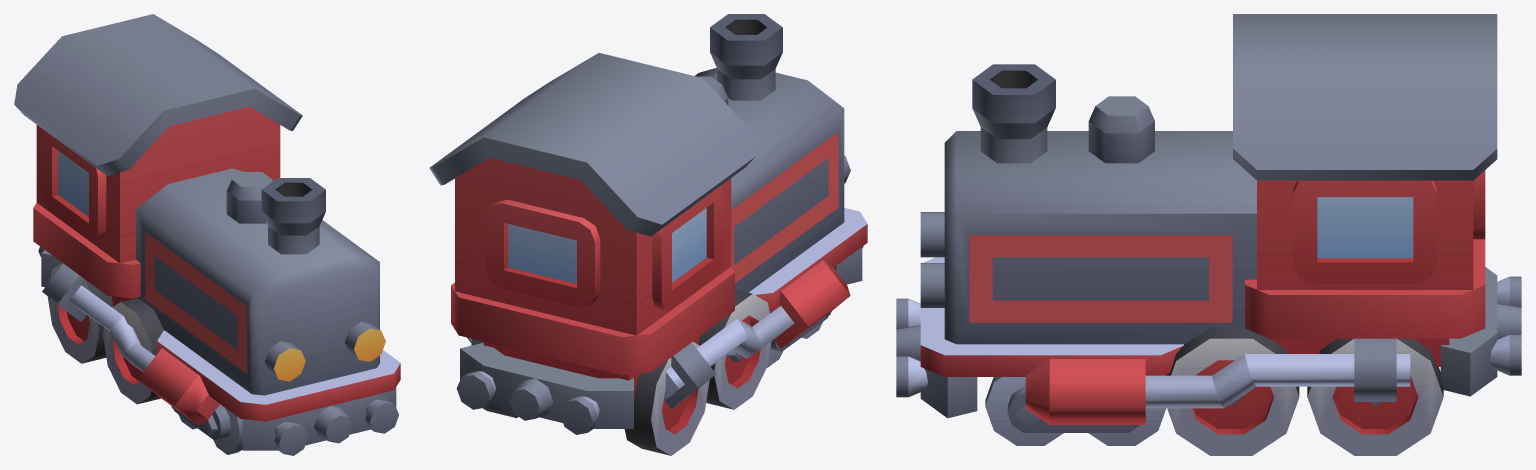
File: train-locomotive-b.glb
The picture shows the model from 3 angles, left to right: view 1: azimuth 30°, elevation 25°; view 2: azimuth 150°, elevation 25°; view 3: azimuth 270°, elevation 25°; orthographic projection. The views are drawn at different scales.
Visible parts, largest first — view 1: train-locomotive-b, wheel (×2), wheels-front; view 2: train-locomotive-b, wheel (×2), wheels-front; view 3: train-locomotive-b, wheel (×2), wheels-front.
Part boxes in pixels (bbox=[...]): train-locomotive-b: bbox=[14, 14, 400, 455]; wheel (×2): bbox=[47, 263, 164, 404]; wheels-front: bbox=[171, 404, 242, 454]; train-locomotive-b: bbox=[429, 14, 867, 434]; wheel (×2): bbox=[624, 289, 771, 455]; wheels-front: bbox=[767, 311, 831, 367]; train-locomotive-b: bbox=[896, 14, 1521, 424]; wheel (×2): bbox=[1165, 327, 1443, 455]; wheels-front: bbox=[985, 377, 1166, 445].
Bounding box in the file's own units: 1.32 × 1.66 × 2.6.
Materials: 1 (1 with a texture image).
